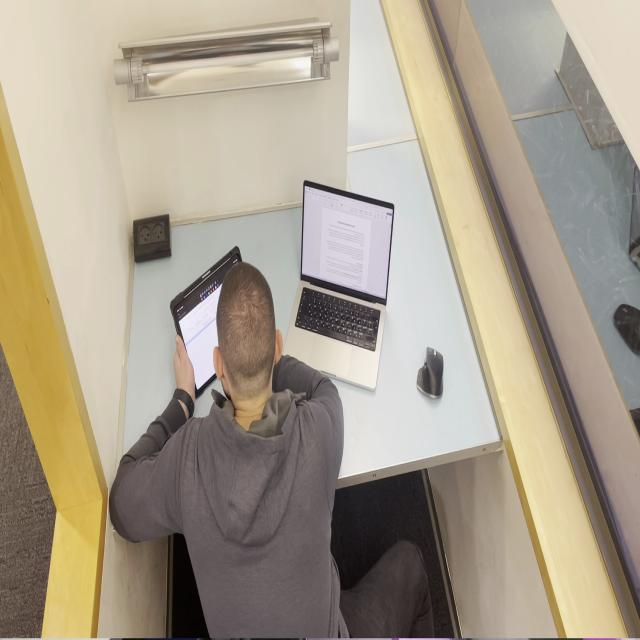bag: (169, 244, 243, 400)
ipad: (108, 262, 434, 640)
laptop: (281, 179, 395, 392)
mouse: (416, 346, 444, 400)
